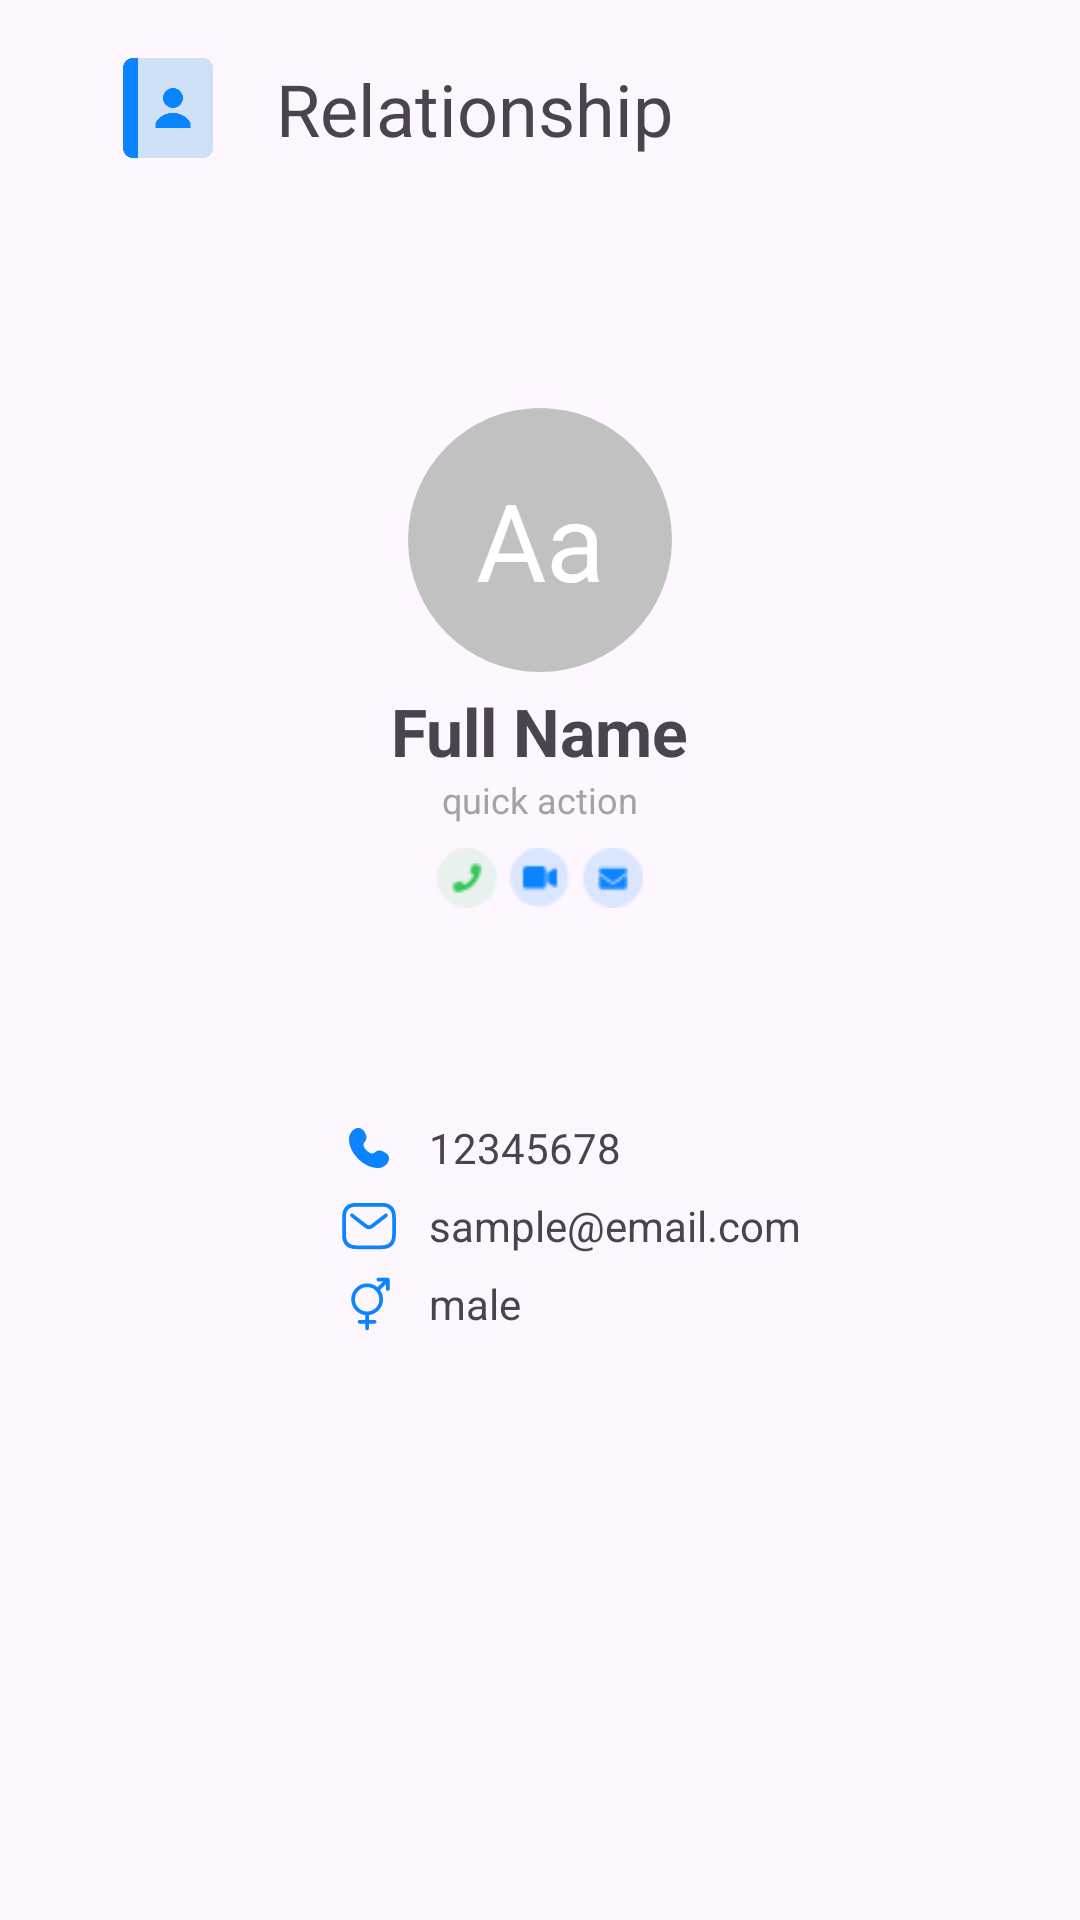

Icon bounding boxes for this 1080w x 1920h phone screenshot, format (x1, y1, x2, y2):
contacts: (123, 58, 213, 158)
gender: (351, 1277, 390, 1331)
number: (349, 1128, 389, 1168)
